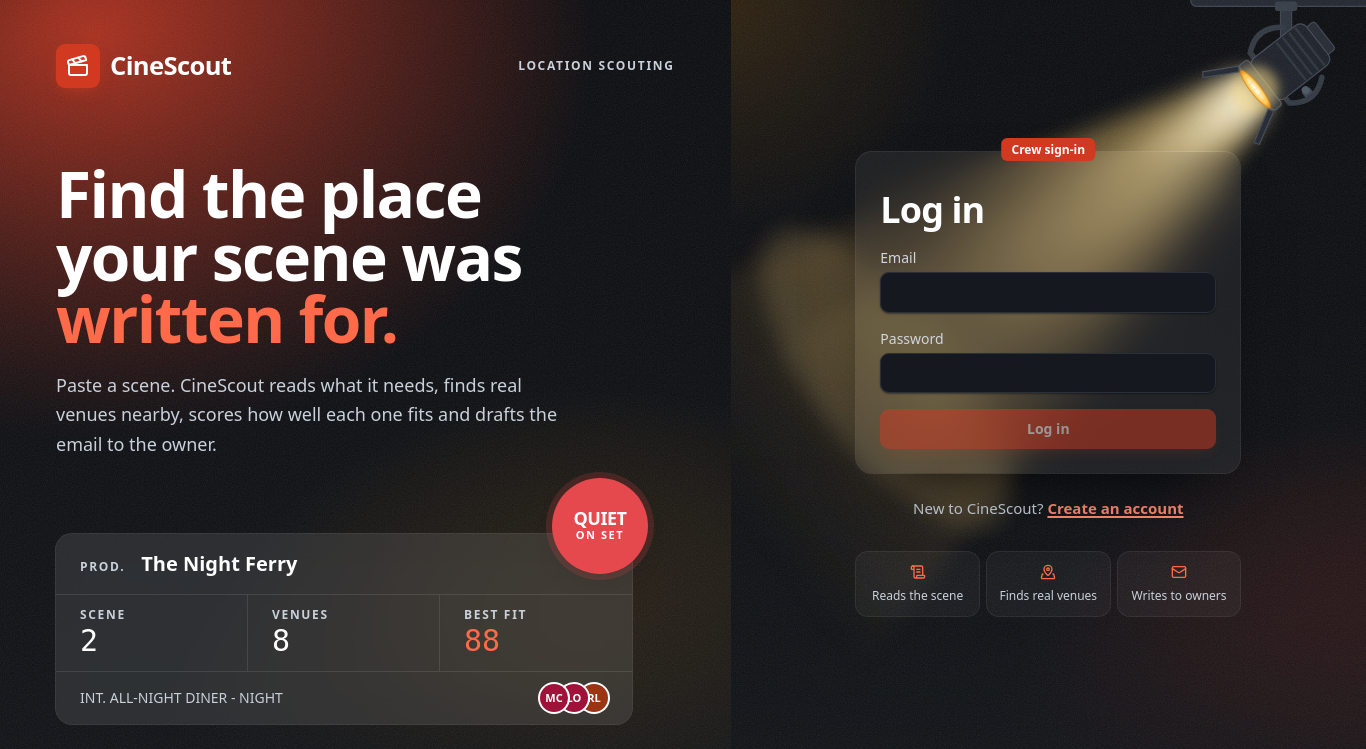
Test case: quick actions on a venue card › open from the ⋯ button, move by keyboard, and close on Escape back to the button
The image size is (1366, 749).
Type "ada@example.com" into the field labelled "Email". click: (1048, 293)
box: [880,272,1216,313]
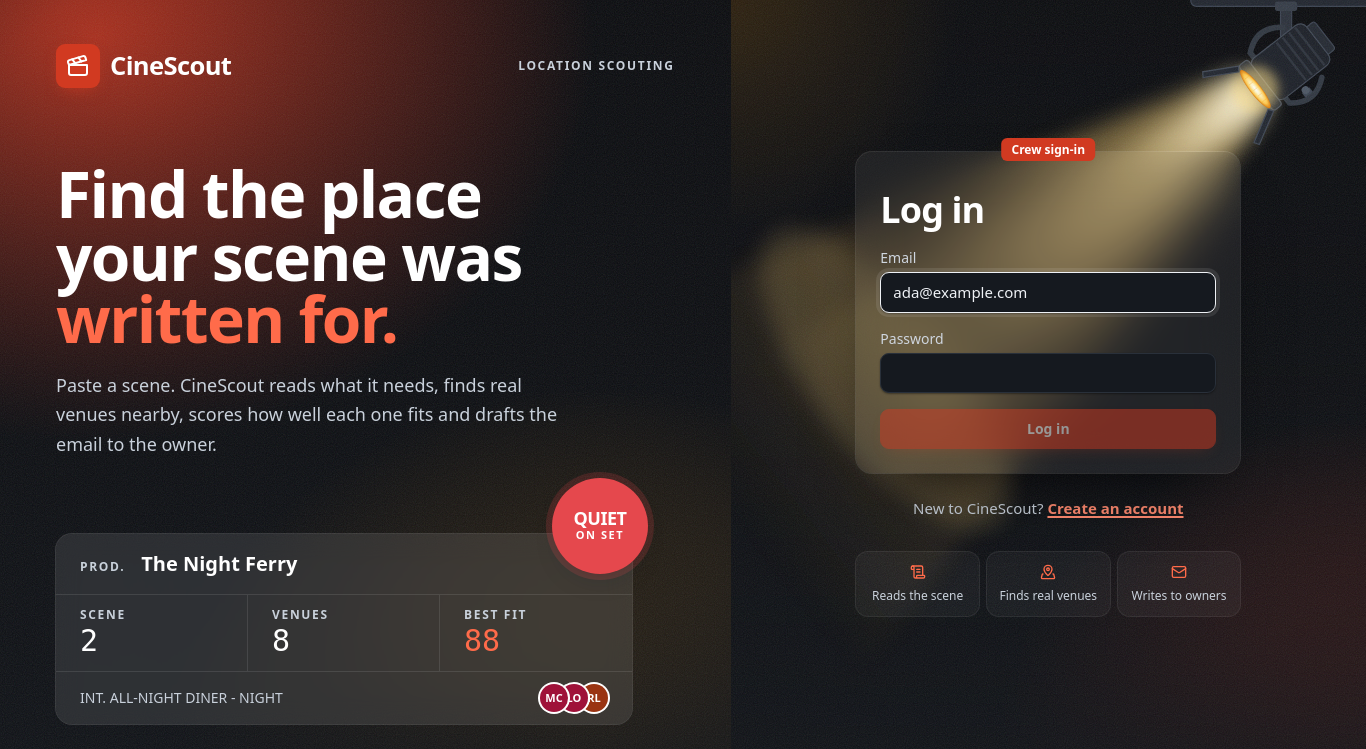
Type "a-long-password" into the password field labelled "Password". click: (1048, 373)
box: [880,353,1216,393]
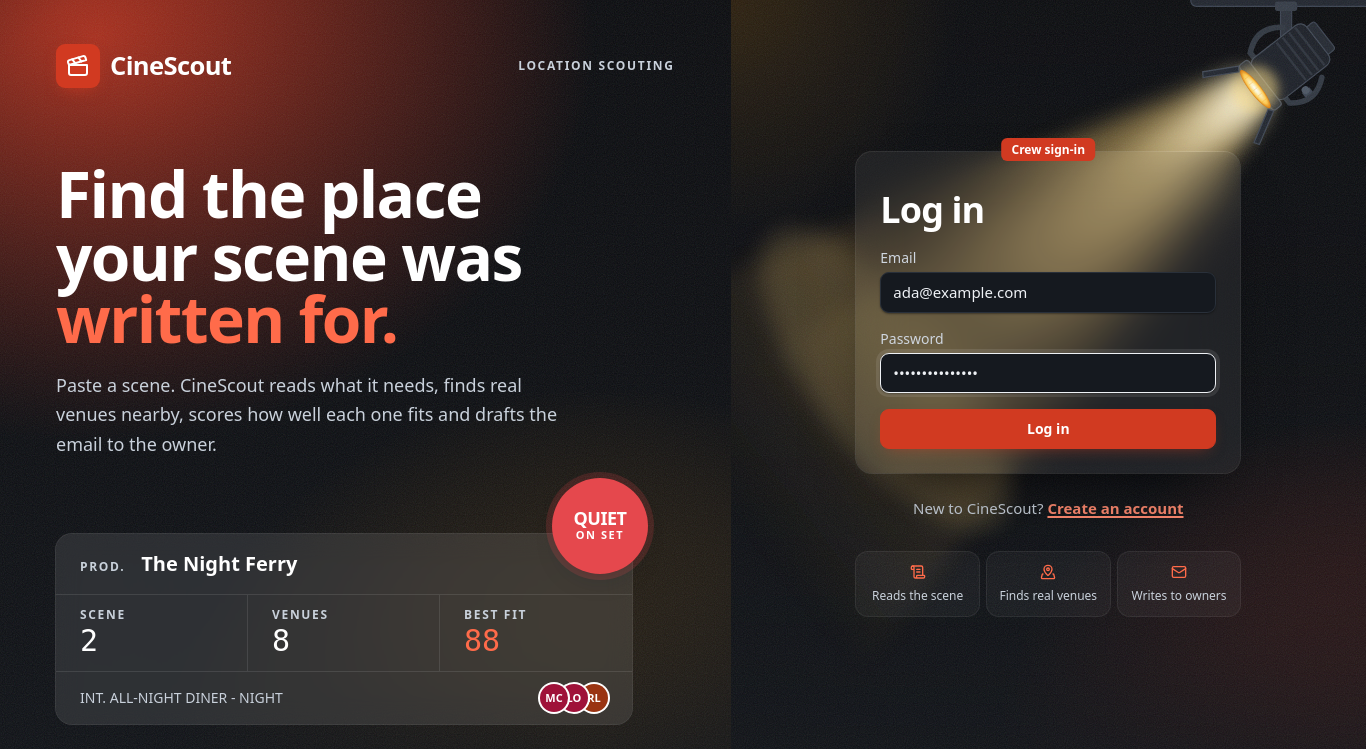
Click the button "Log in". click: (1048, 429)
box: [880,409,1216,449]
(page scrolled)
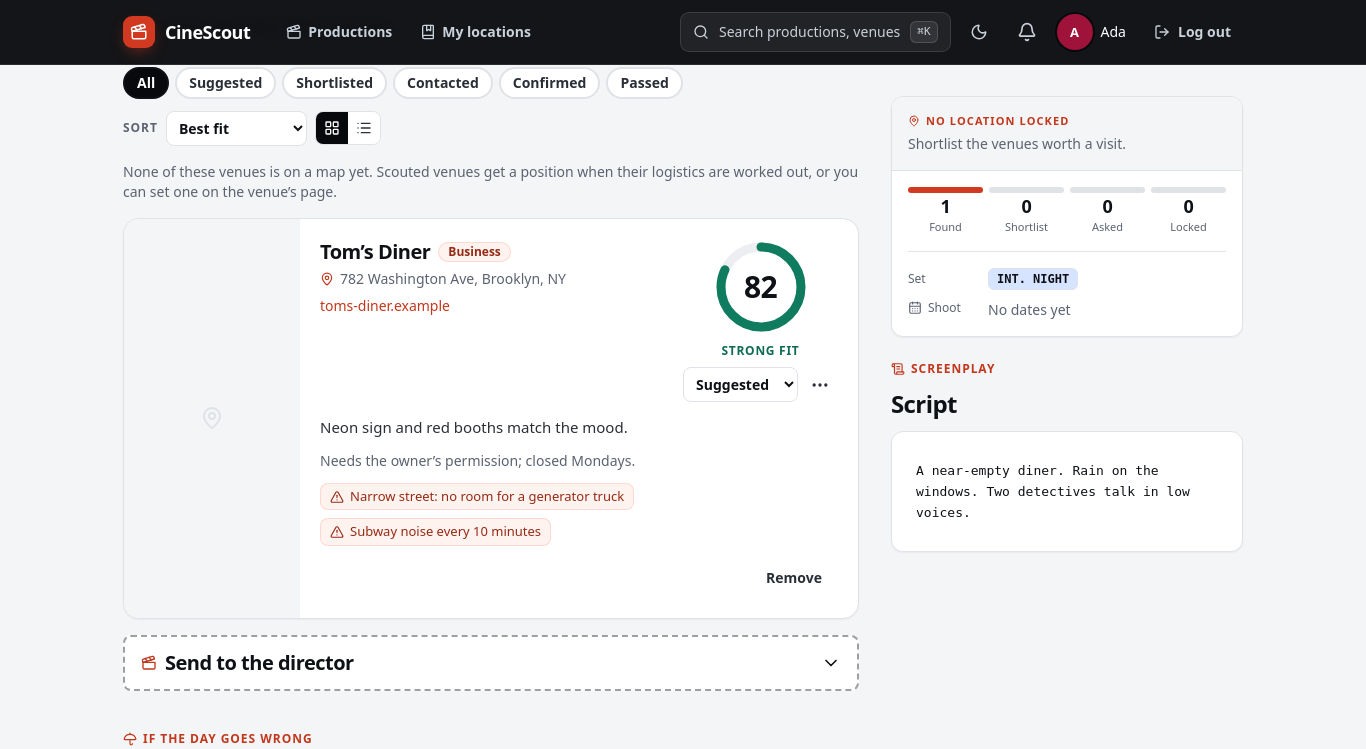
Click the button named "Quick actions for Tom’s Diner". click: (820, 384)
box: [802,366,838,402]
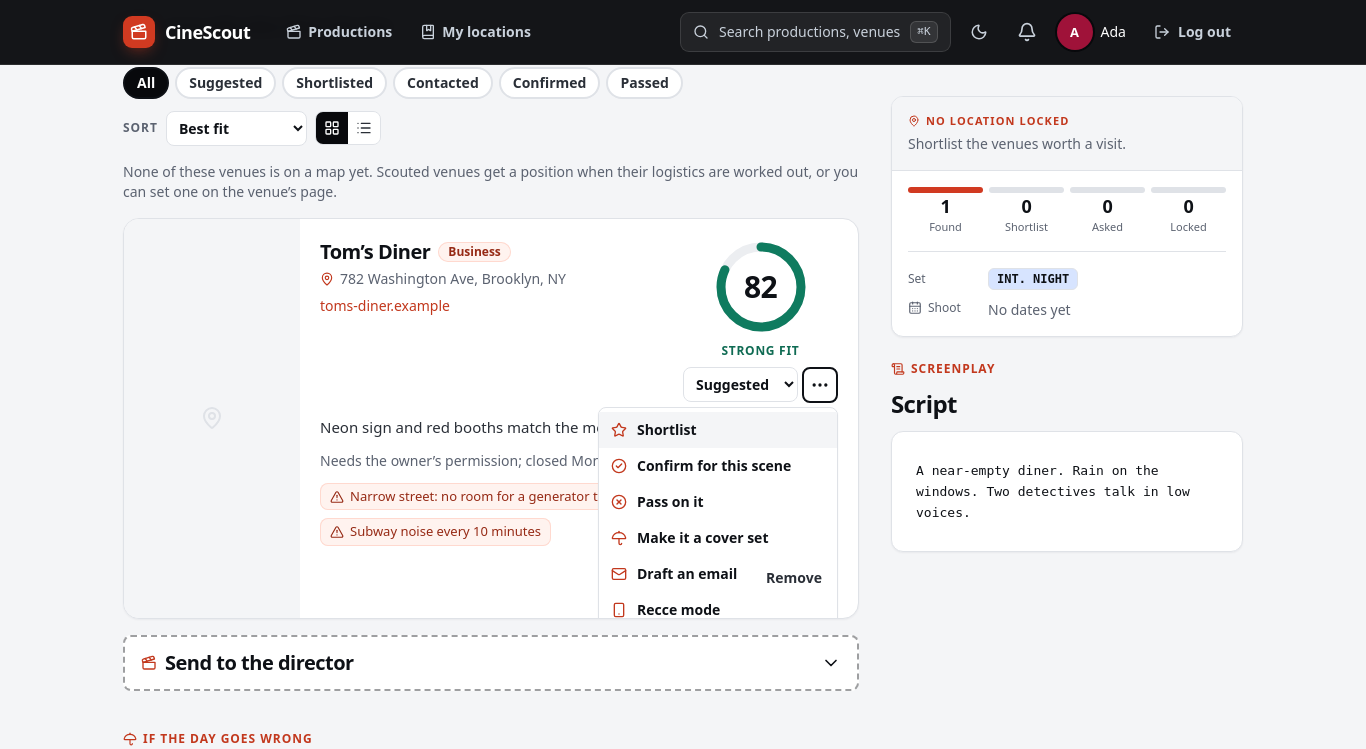
Press Arrowup
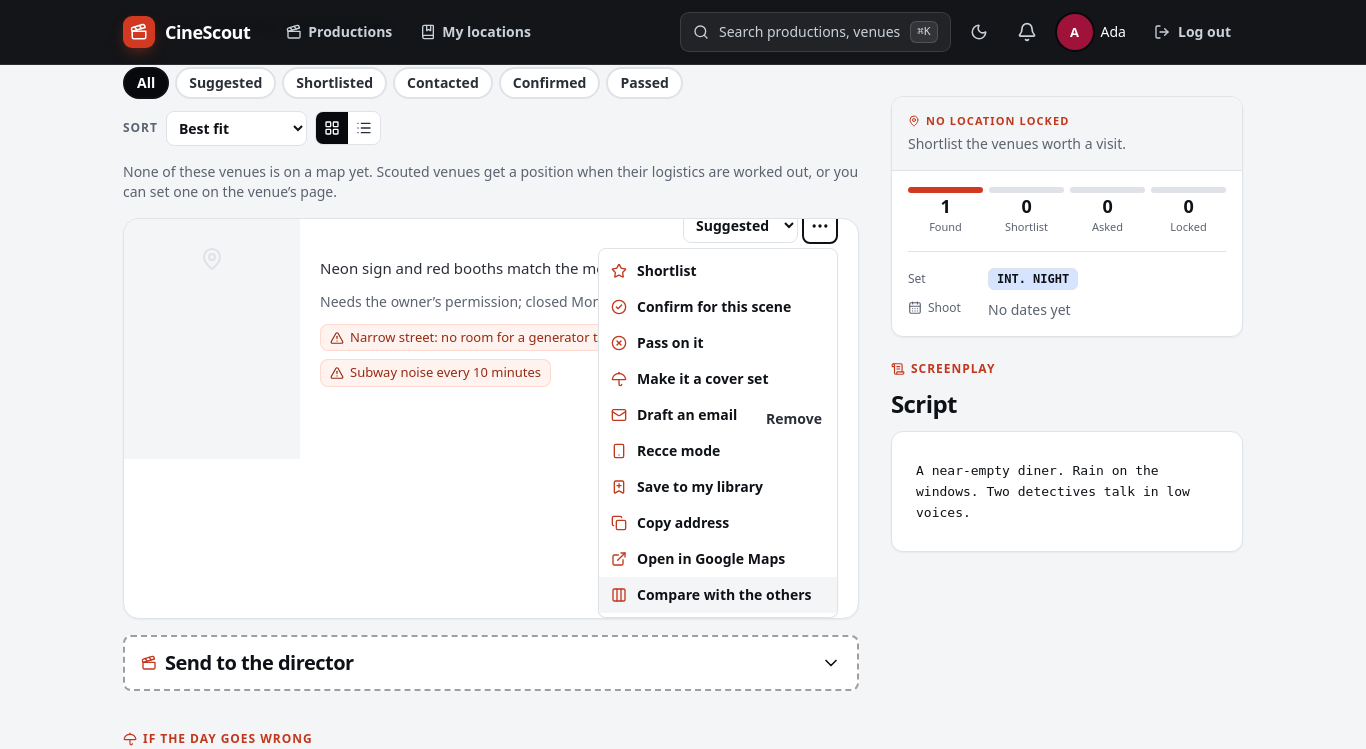
Press Home Arrowdown
Press Escape
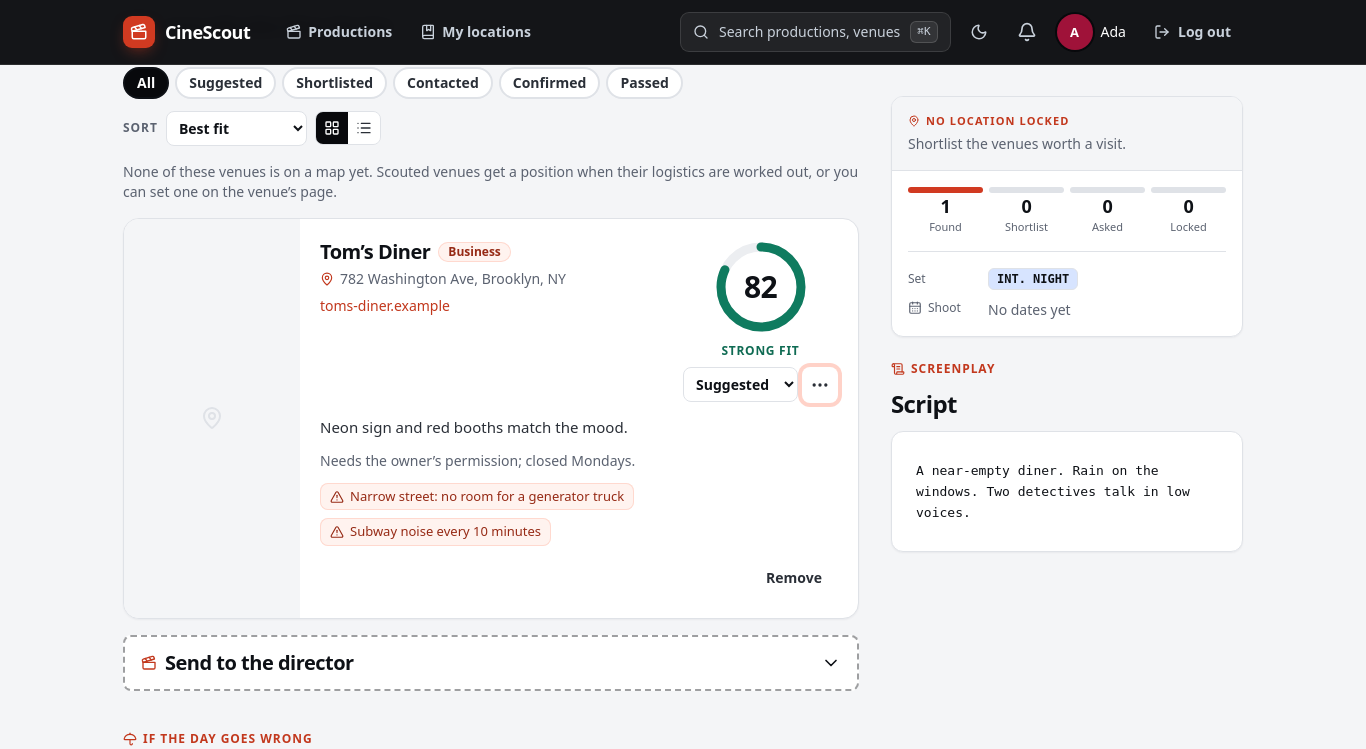
Result: the menu is gone
